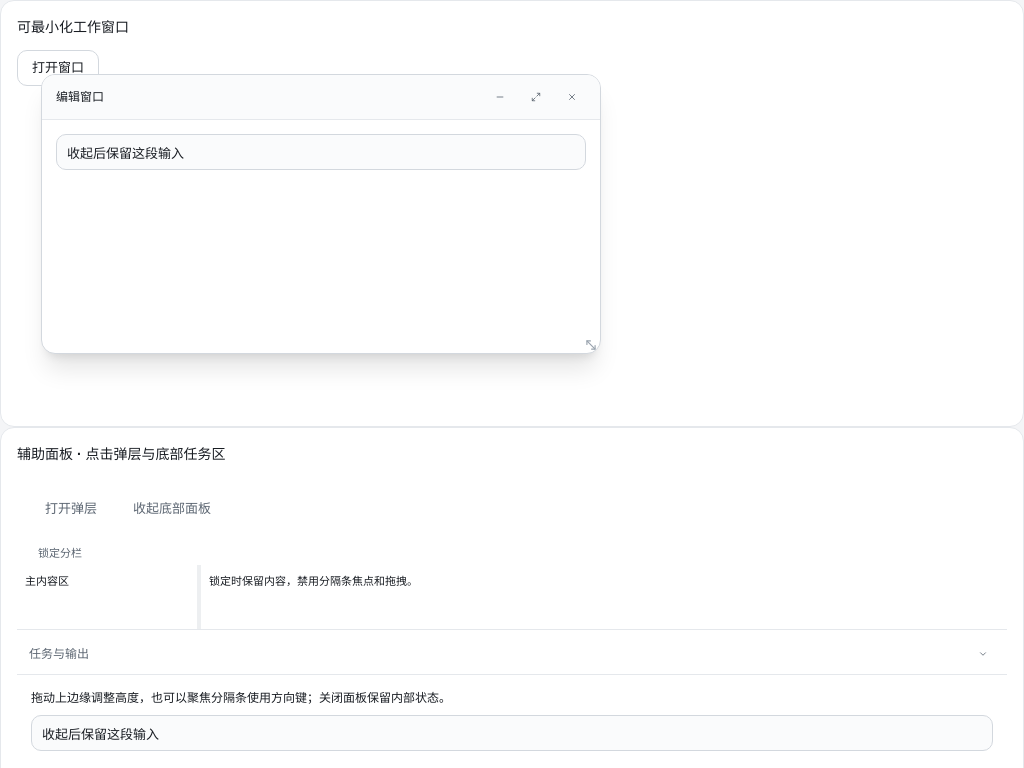
Scenario: 窗口最小化不卸载输入内容，恢复后可继续编辑
Step 1. Replace the text in the field below "编辑窗口" with "草稿仍然存在" → (321, 152), box [56,134,586,170]
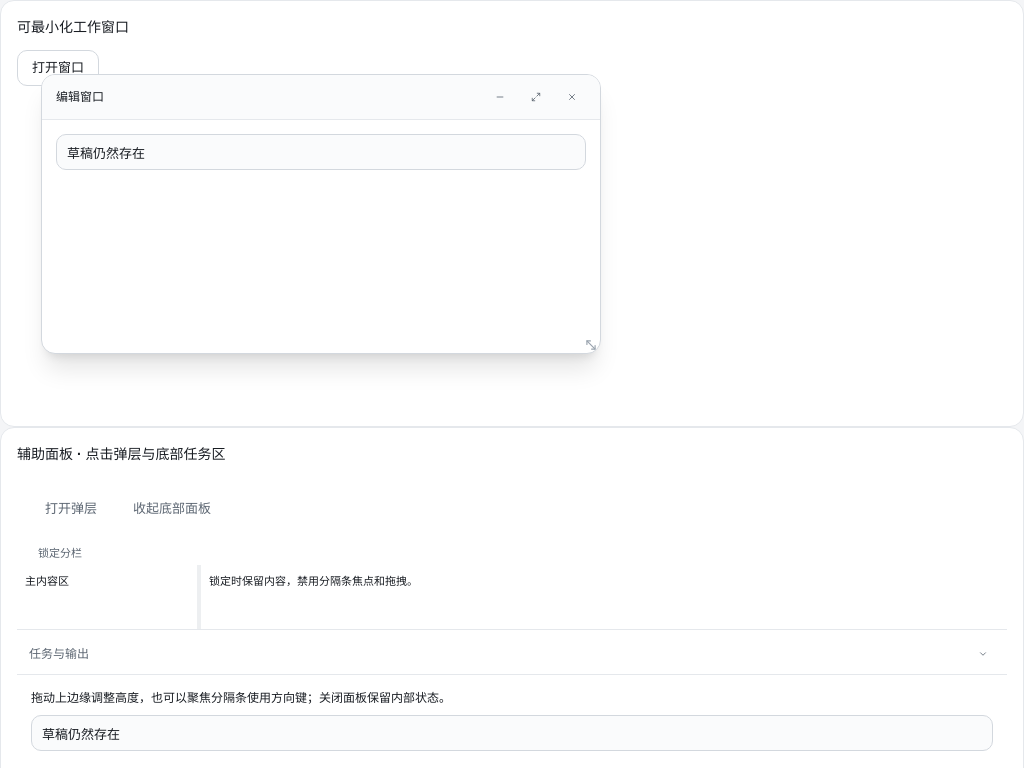
Step 2. Click the button named "最小化窗口" → (500, 97), box [486,83,514,111]
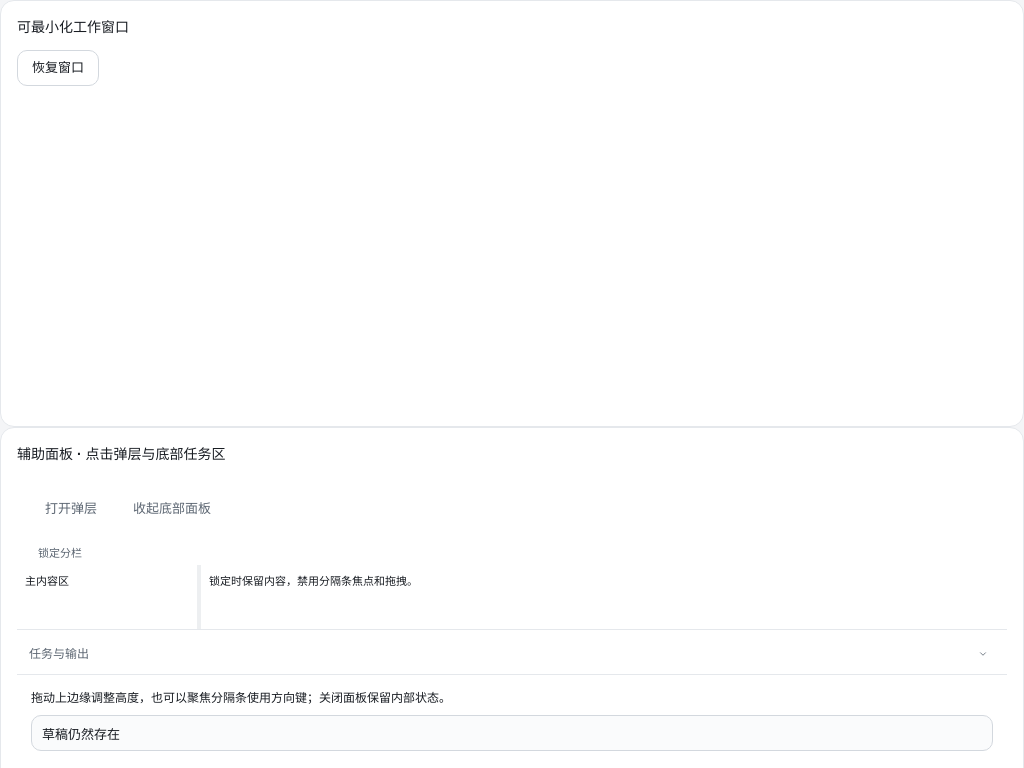
Step 3. Click the button "恢复窗口" → (58, 68), box [17,50,99,86]
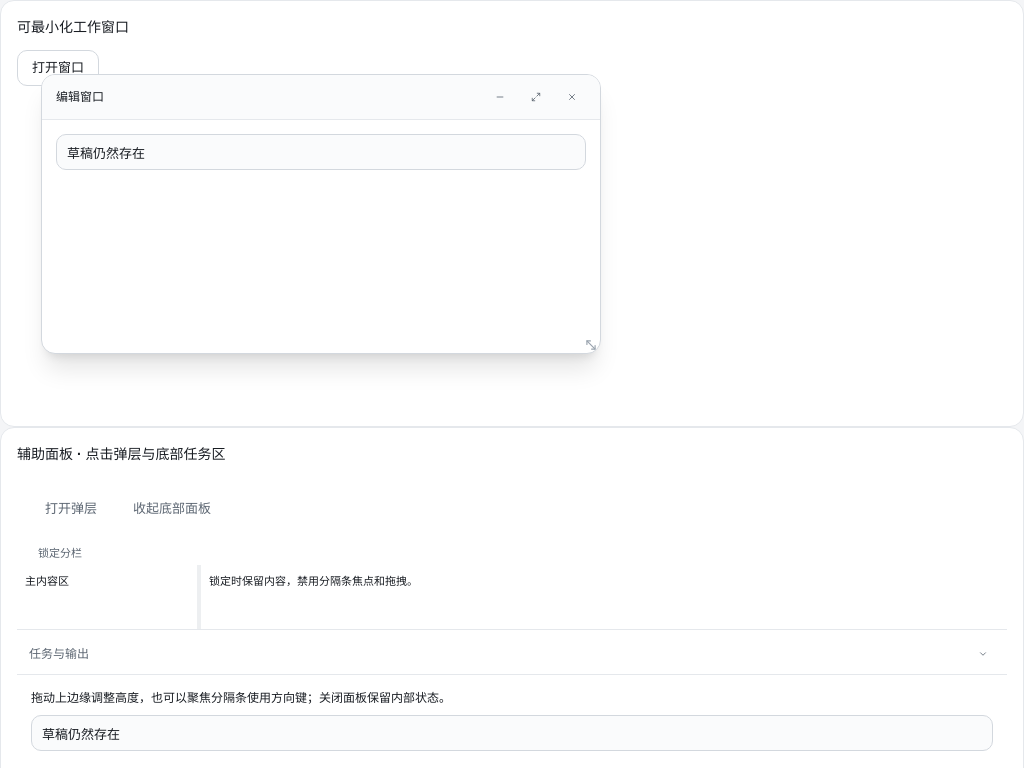
Now the dialog is shown, box [41,74,601,354]
